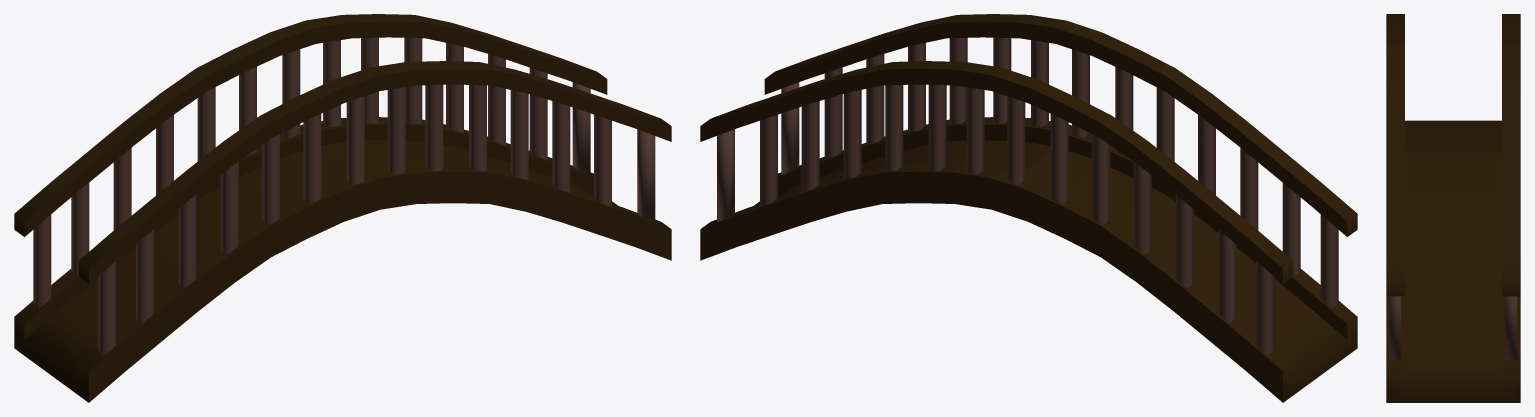
File: P2_Wooden_Arch_Bridge.fbx
The picture shows the model from 3 angles, left to right: view 1: azimuth 30°, elevation 25°; view 2: azimuth 150°, elevation 25°; view 3: azimuth 270°, elevation 25°; orthographic projection. The views are drawn at different scales.
Parts seen in each view (by area): view 1: Bridge; view 2: Bridge; view 3: Bridge.
Part boxes in pixels (bbox=[...]): Bridge: bbox=[14, 14, 671, 402]; Bridge: bbox=[700, 14, 1357, 402]; Bridge: bbox=[1386, 14, 1520, 402].
Size of the model in its own units: 1395 by 587 by 310.
